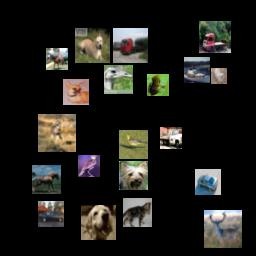automobile: (38, 201, 64, 227), (195, 169, 221, 195)
bird: (119, 130, 148, 159), (104, 65, 133, 94), (78, 155, 100, 177)
cat: (123, 198, 152, 227)
deer: (38, 114, 76, 152), (204, 210, 242, 248)
dog: (75, 28, 110, 63), (81, 205, 116, 240), (119, 161, 148, 190), (63, 79, 89, 105), (211, 68, 227, 84)
frog: (147, 74, 169, 96)
ship: (184, 57, 210, 83)
truck: (113, 28, 148, 63), (199, 21, 231, 53), (160, 127, 182, 149)
